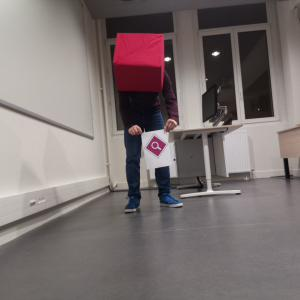search: (145, 135, 167, 158)
